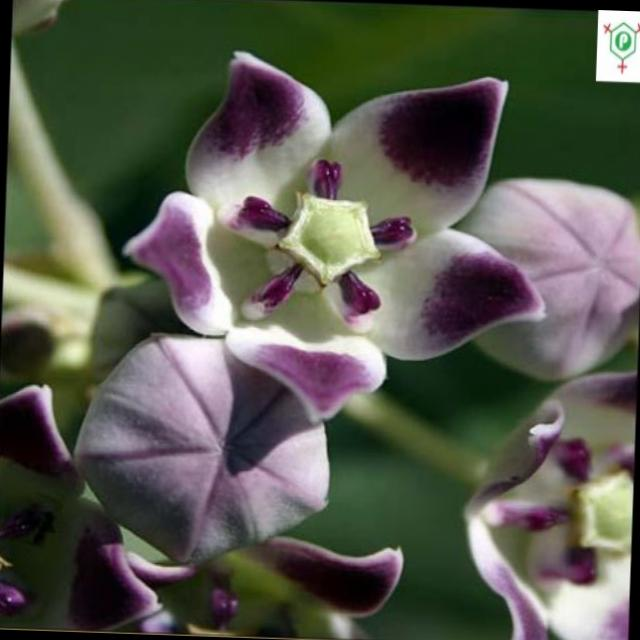Poisonous-Calatropis: (121, 37, 552, 440), (0, 335, 431, 640), (474, 383, 638, 640)
